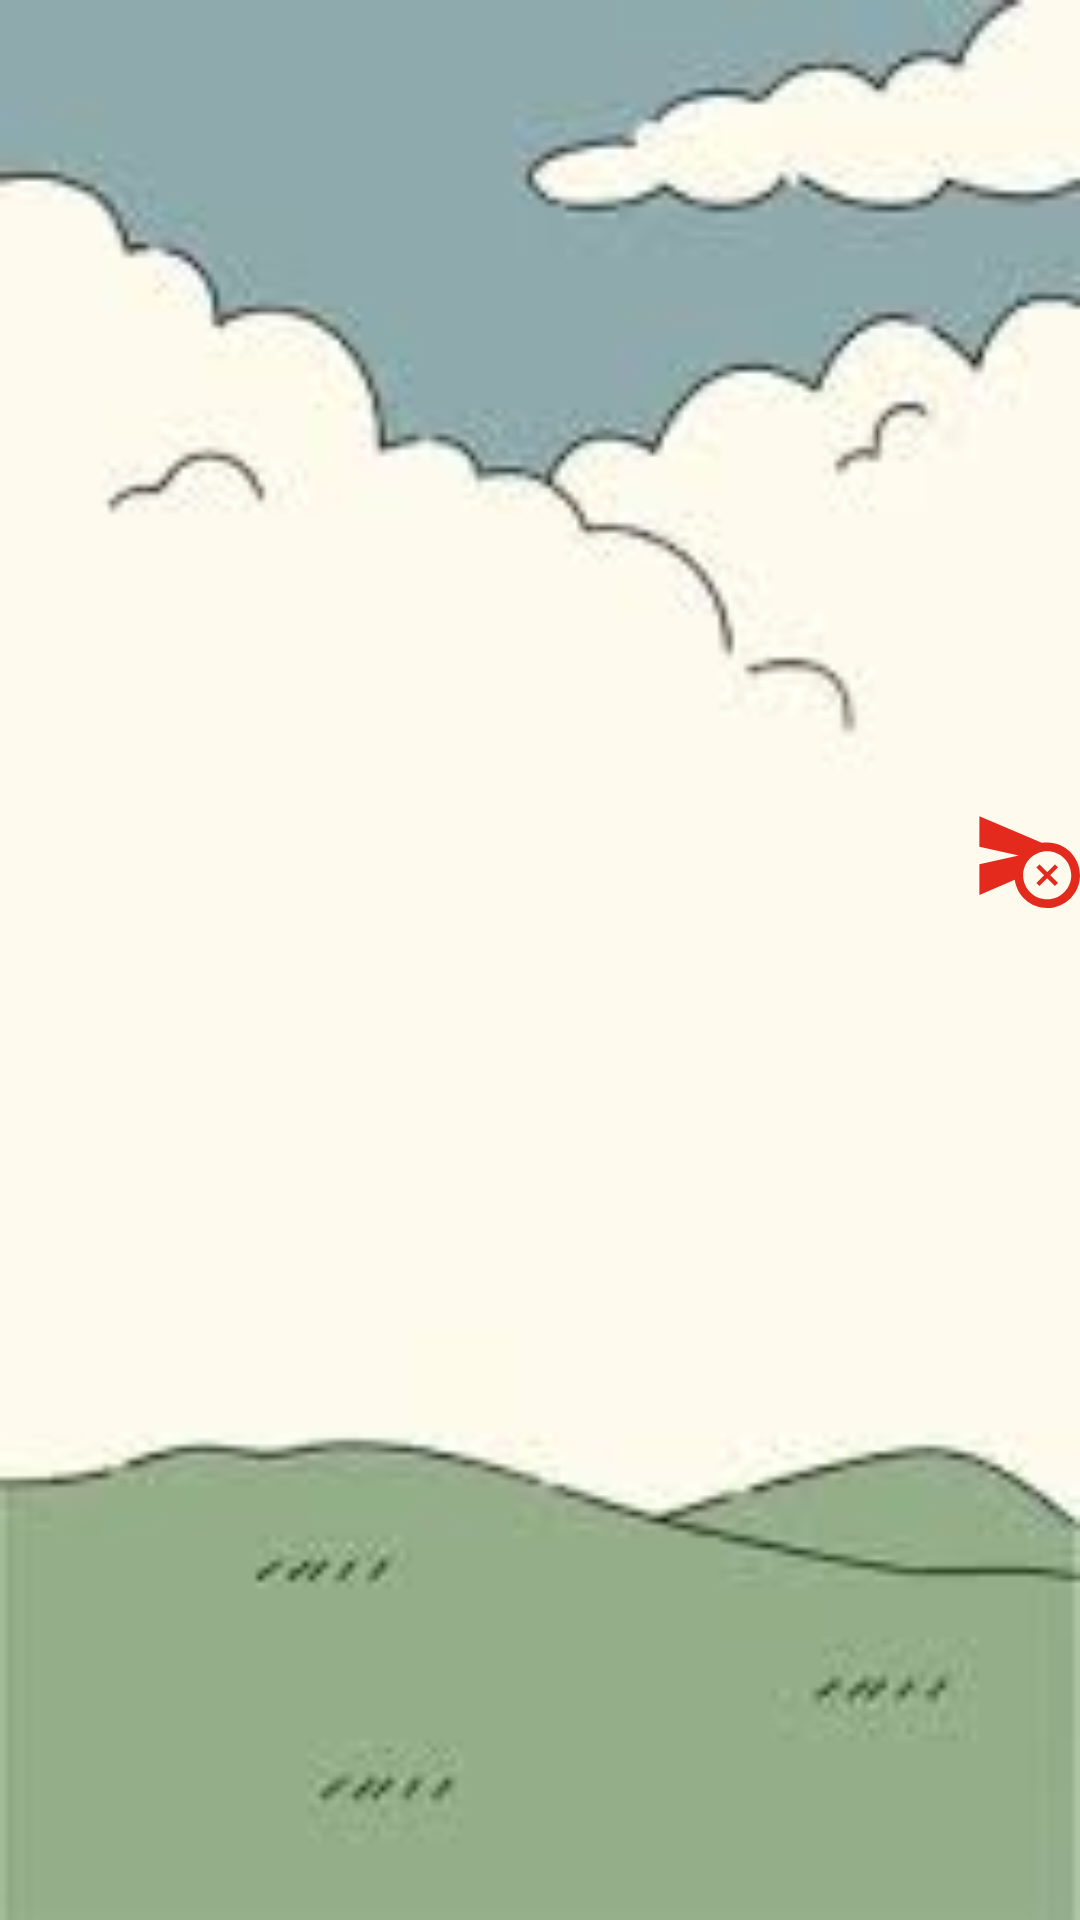

Icons on this 1080 x 1920 Android screen, each with the point to tap as point (x, y):
cancel: point (1029, 862)
